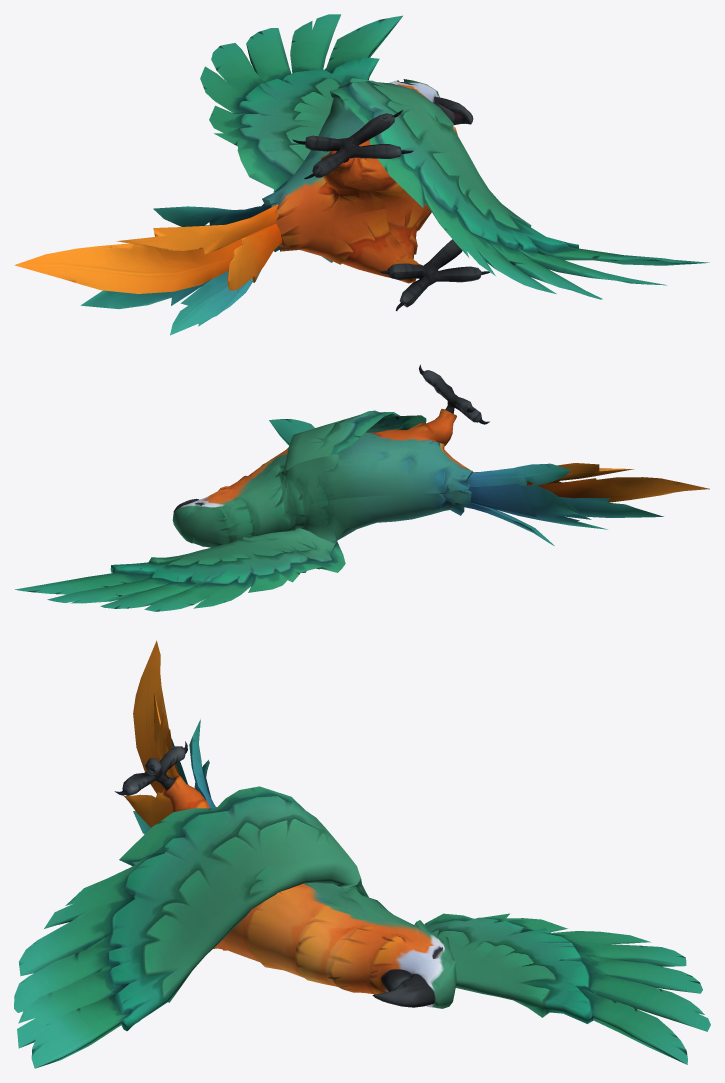
Rendered from dead_sparrot.glb.
The picture shows the model from 3 angles, top to bottom: view 1: azimuth 30°, elevation 25°; view 2: azimuth 150°, elevation 25°; view 3: azimuth 270°, elevation 25°; orthographic projection. The views are drawn at different scales.
Parts seen in each view (by area): view 1: dead_sparrot; view 2: dead_sparrot; view 3: dead_sparrot.
Boxes of the visible parts, x1,y1,x2,y2 form: dead_sparrot: [14, 14, 709, 335]; dead_sparrot: [15, 364, 709, 611]; dead_sparrot: [14, 640, 710, 1068].
Size of the model in its own units: 0.6292 by 0.18 by 0.5729.
Materials: 2 (2 with a texture image).
